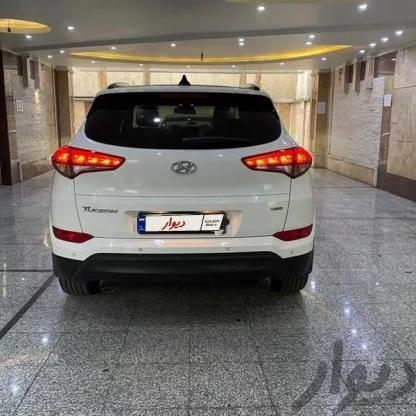Car: (28, 76, 320, 301)
